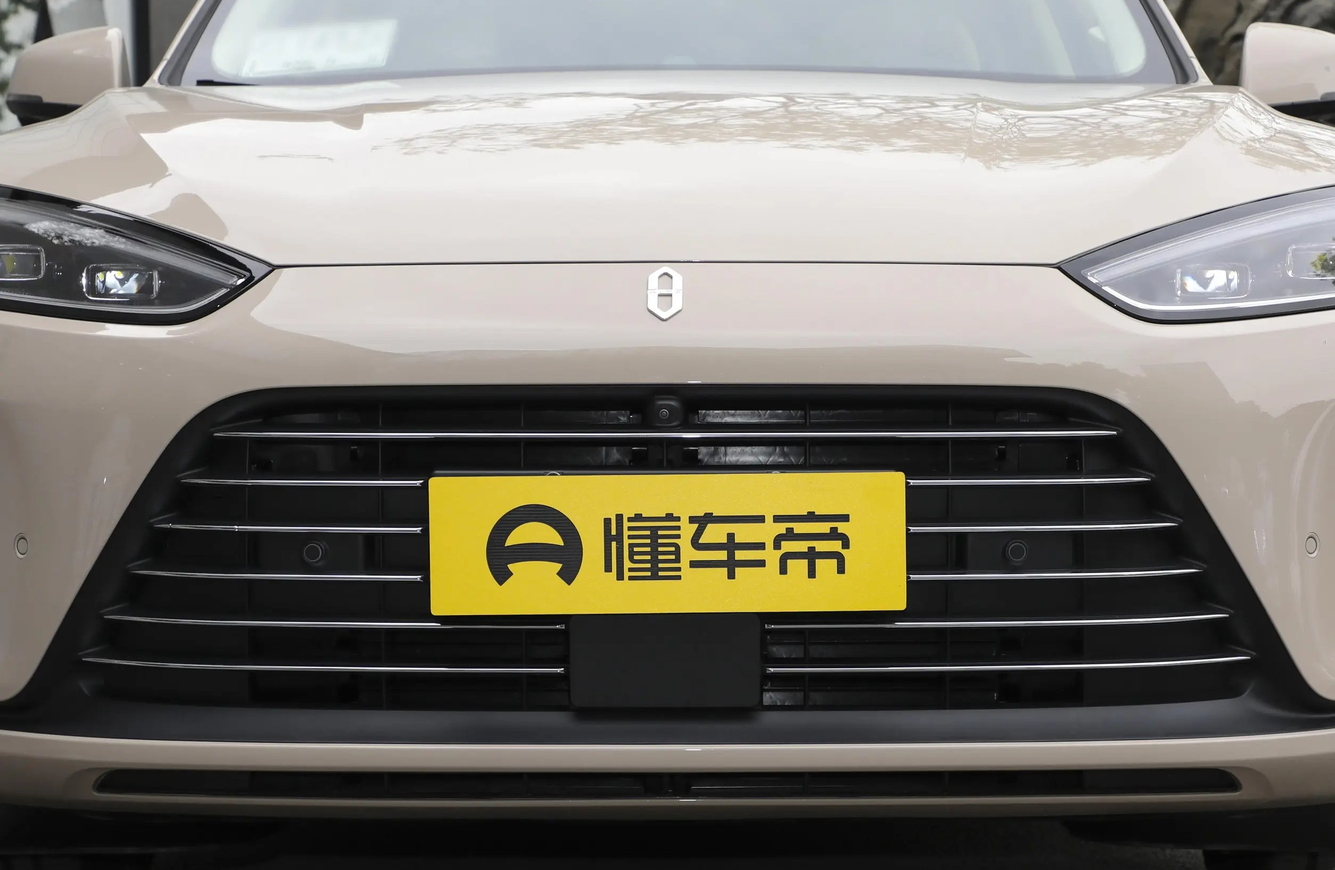AITO: (647, 267, 682, 320)
